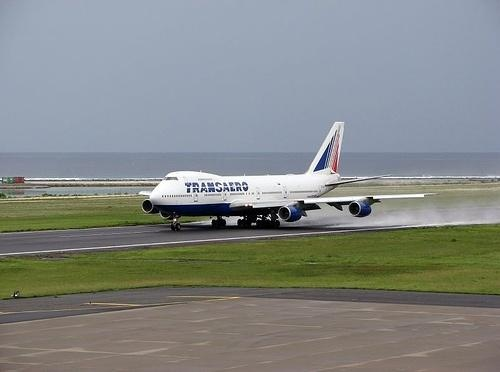aeroplane: (137, 119, 440, 234)
